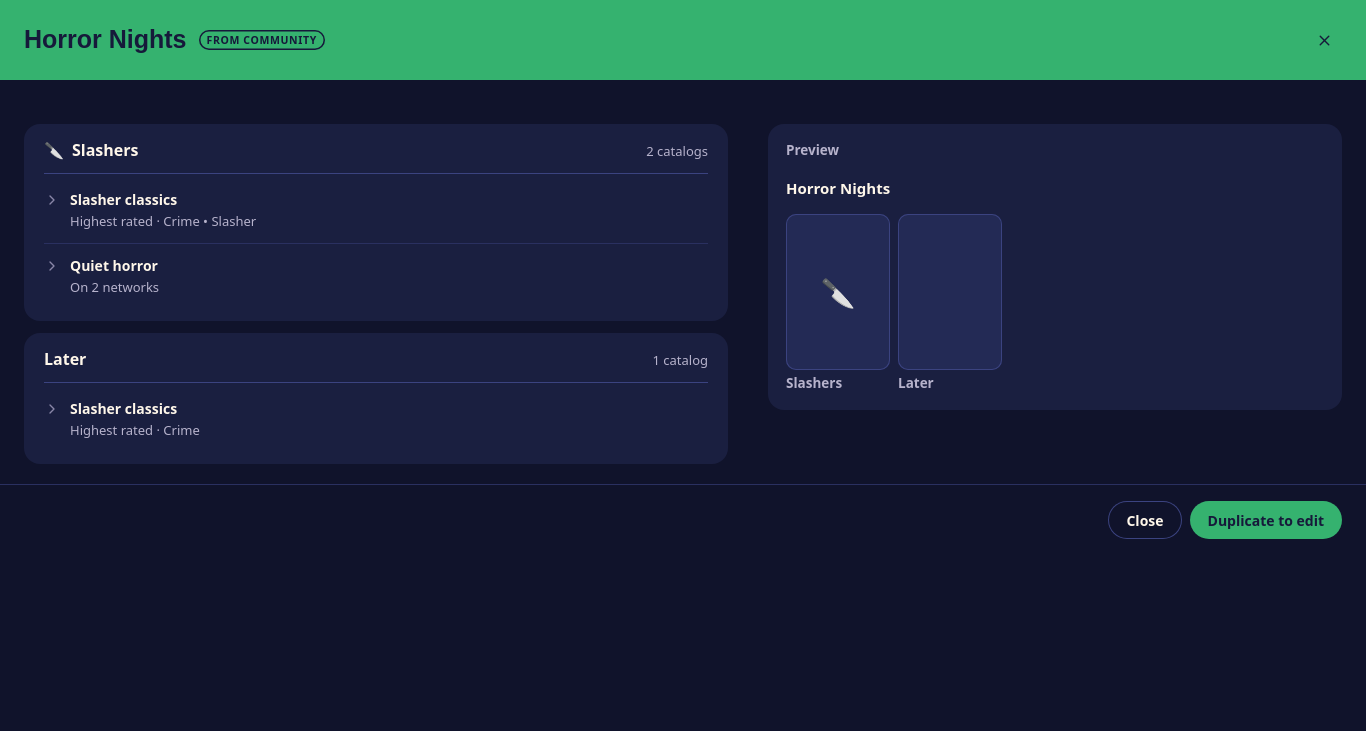
Test: CollectionFromCommunity › shows the genre a folder narrows a catalog to among its tiles
Click the button "Slasher classics Highest rated · Crime • Slasher": (124, 199) [44,186,708,235]
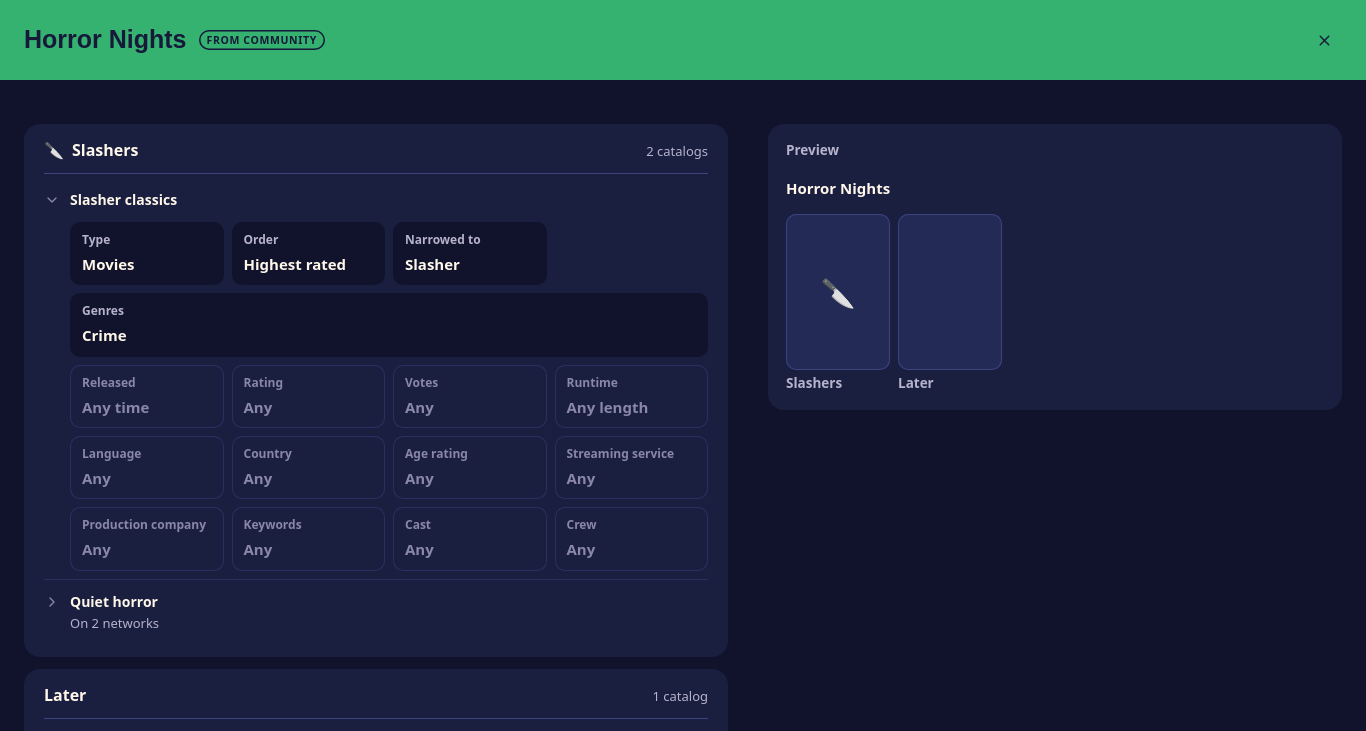
Expected: the text "Slasher" is shown, [405,254,460,274]
Expected: the text "Narrowed to" is shown, [405,231,481,248]
